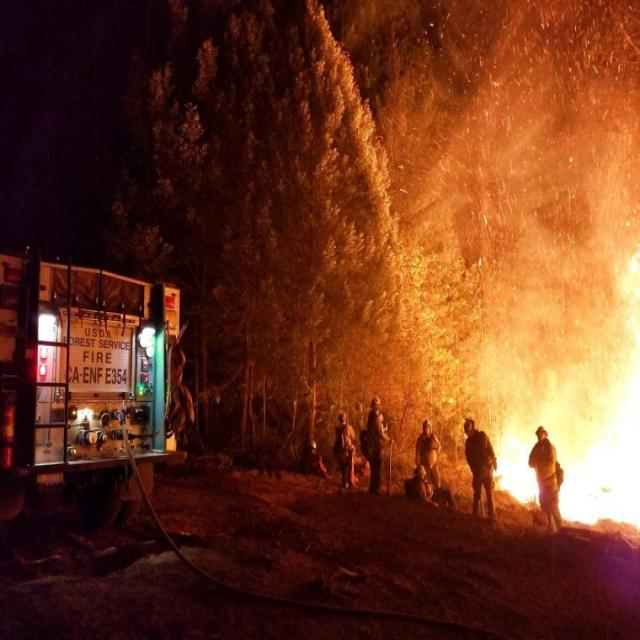Smoke: (491, 228, 640, 536)
